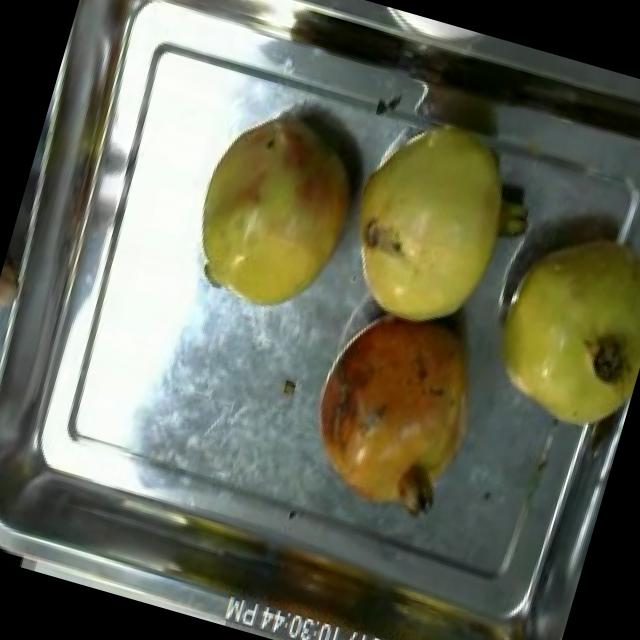fruit: (320, 88, 567, 360), (282, 283, 514, 546), (174, 88, 380, 336), (458, 192, 640, 457)
